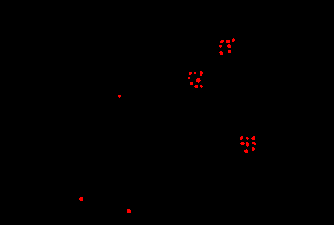Target: (196, 78, 201, 83), (227, 44, 231, 48), (219, 51, 223, 55), (251, 136, 255, 140), (244, 149, 248, 153), (79, 197, 83, 201), (127, 209, 131, 213), (200, 71, 203, 76), (240, 142, 245, 145), (246, 142, 249, 147), (232, 38, 235, 42), (220, 40, 224, 43), (226, 40, 230, 43), (194, 85, 198, 88), (240, 136, 243, 140), (252, 142, 256, 145), (252, 147, 255, 151), (219, 45, 222, 48), (228, 50, 231, 53), (189, 72, 192, 75), (190, 82, 193, 85), (200, 85, 203, 88), (118, 95, 121, 98), (246, 137, 249, 140), (194, 72, 196, 74), (188, 77, 190, 79)
